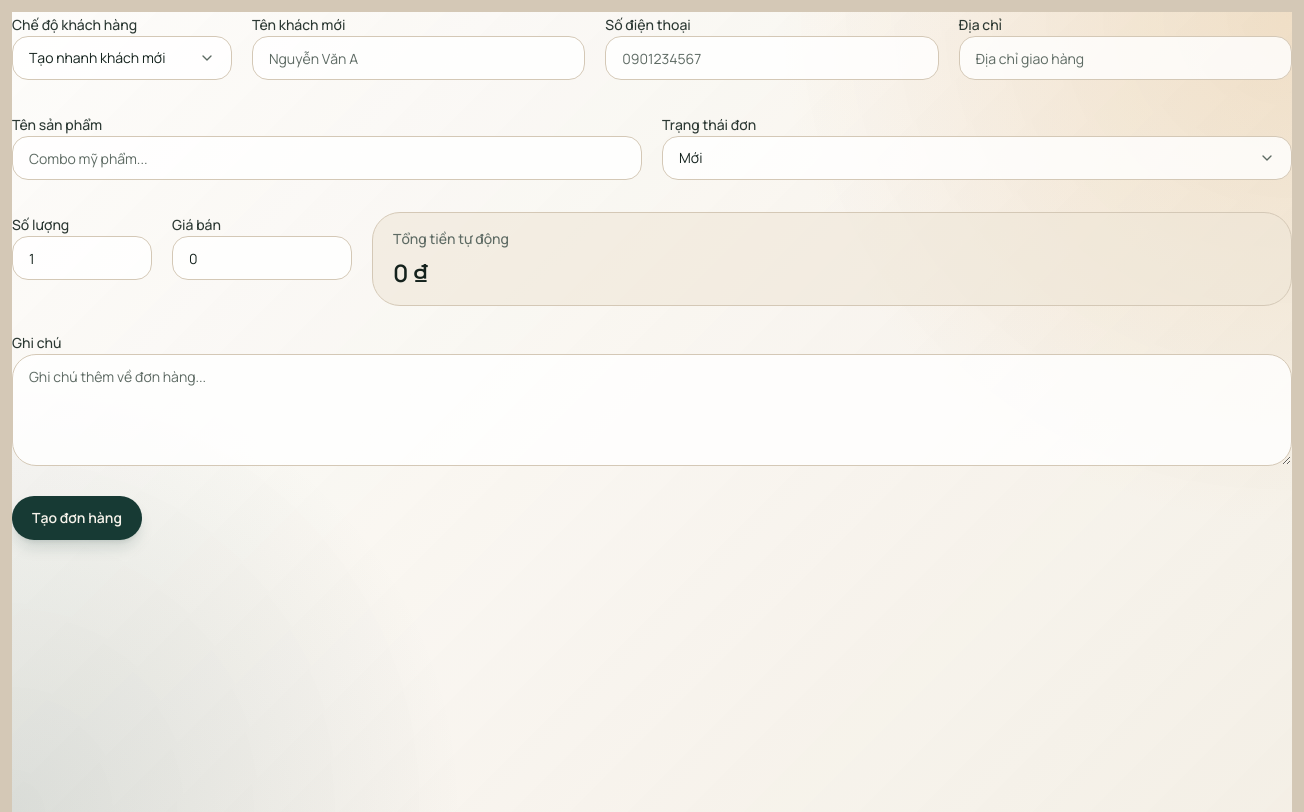
Test: OrderForm › shows computed total price as user edits quantity and price
Step 1. Type "Pham D" into the field labelled "Tên khách mới" → (419, 58), box [252, 36, 585, 80]
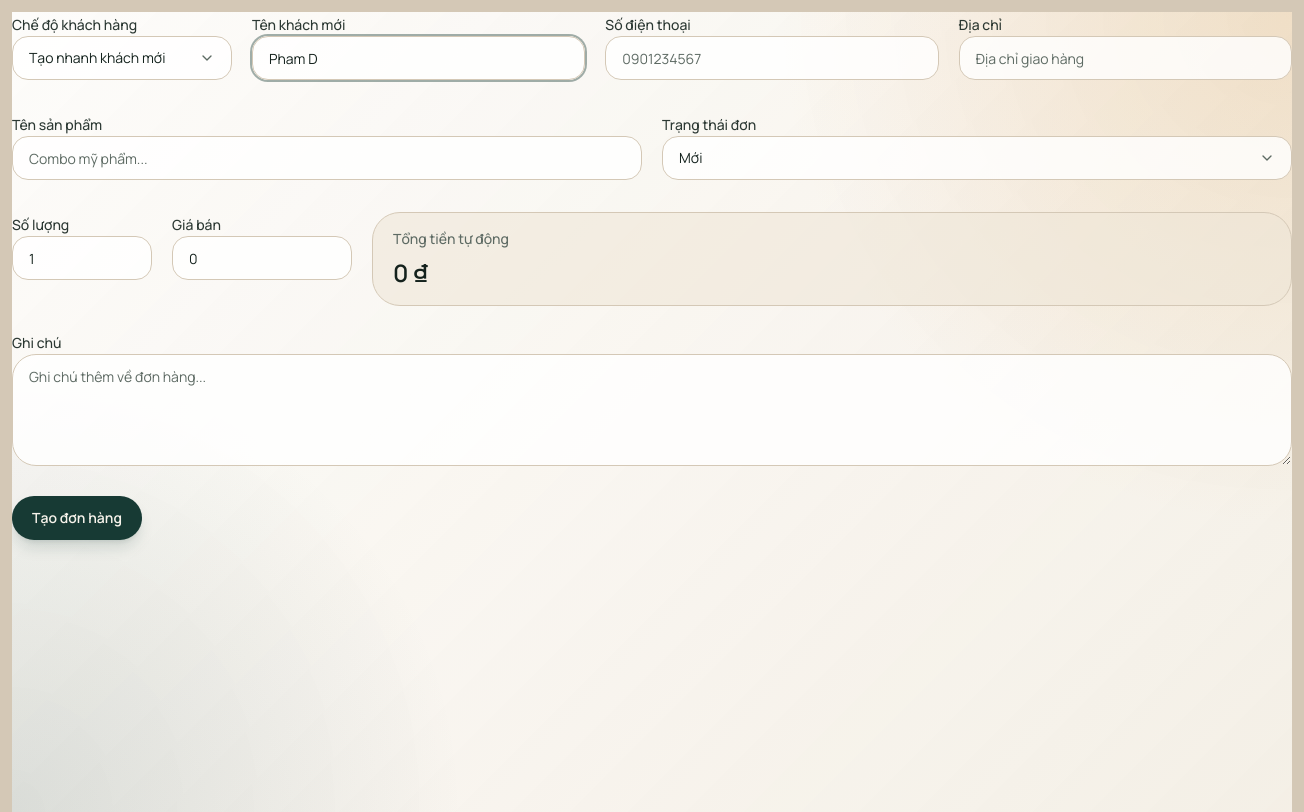
Step 2. Type "0902222222" into the field labelled "Số điện thoại" → (772, 58), box [605, 36, 939, 80]
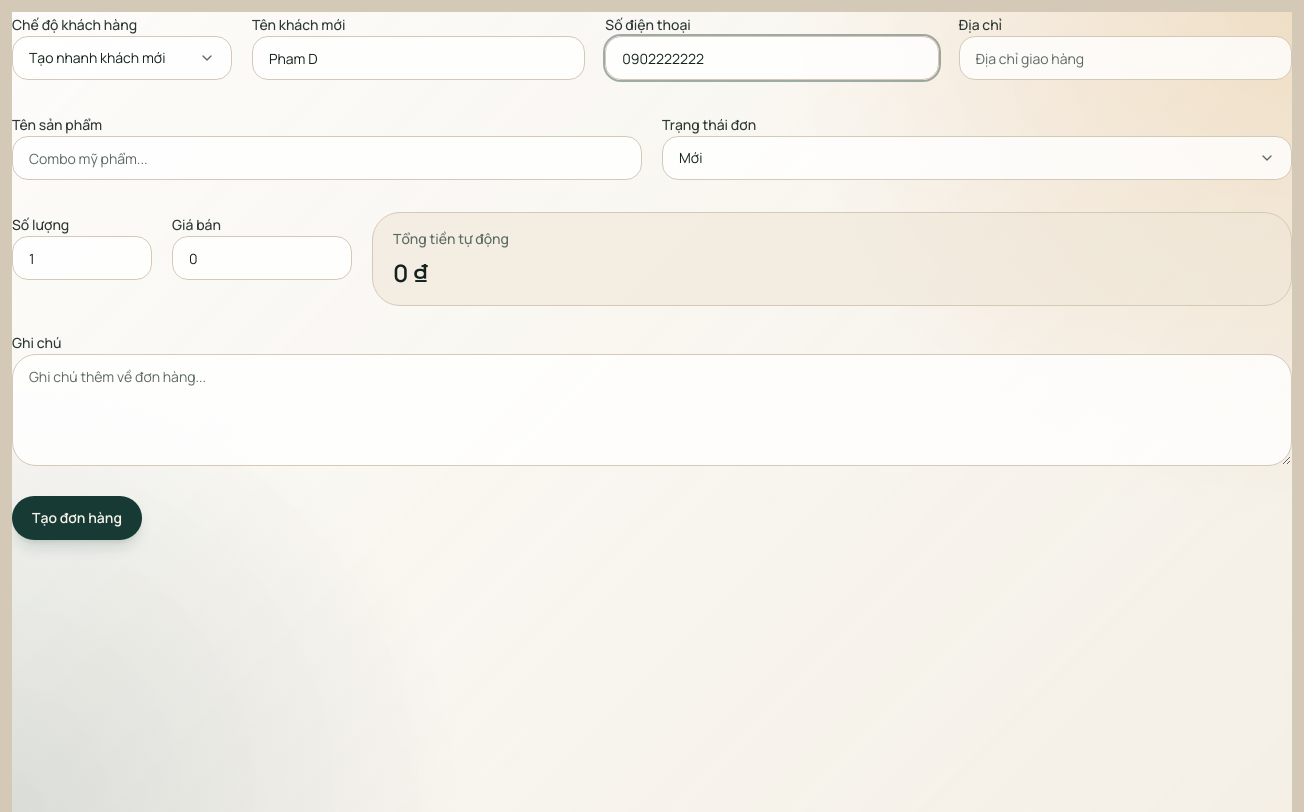
Step 3. Type "San pham test" into the field labelled "Tên sản phẩm" → (327, 158), box [12, 136, 642, 180]
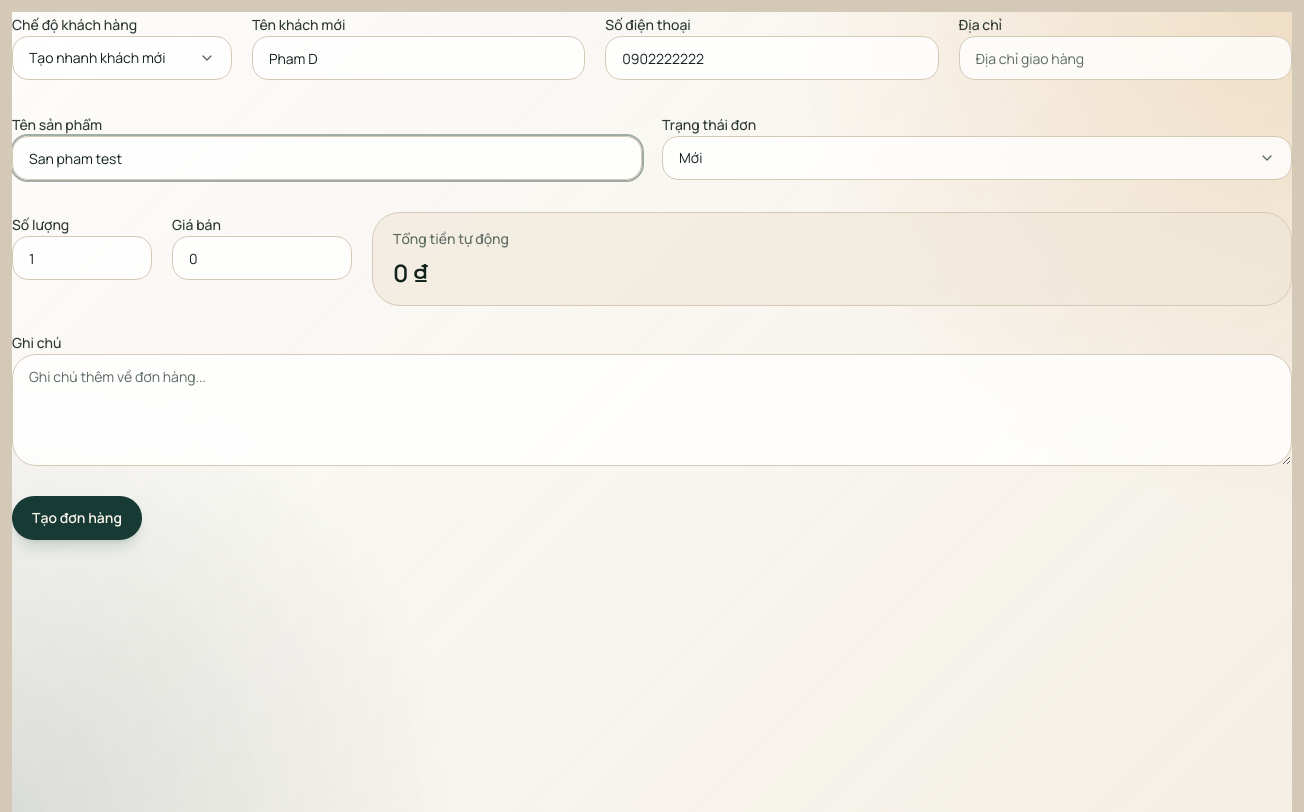
Step 4. Replace the text in the number field labelled "Số lượng" with "3" → (82, 258), box [12, 236, 152, 280]
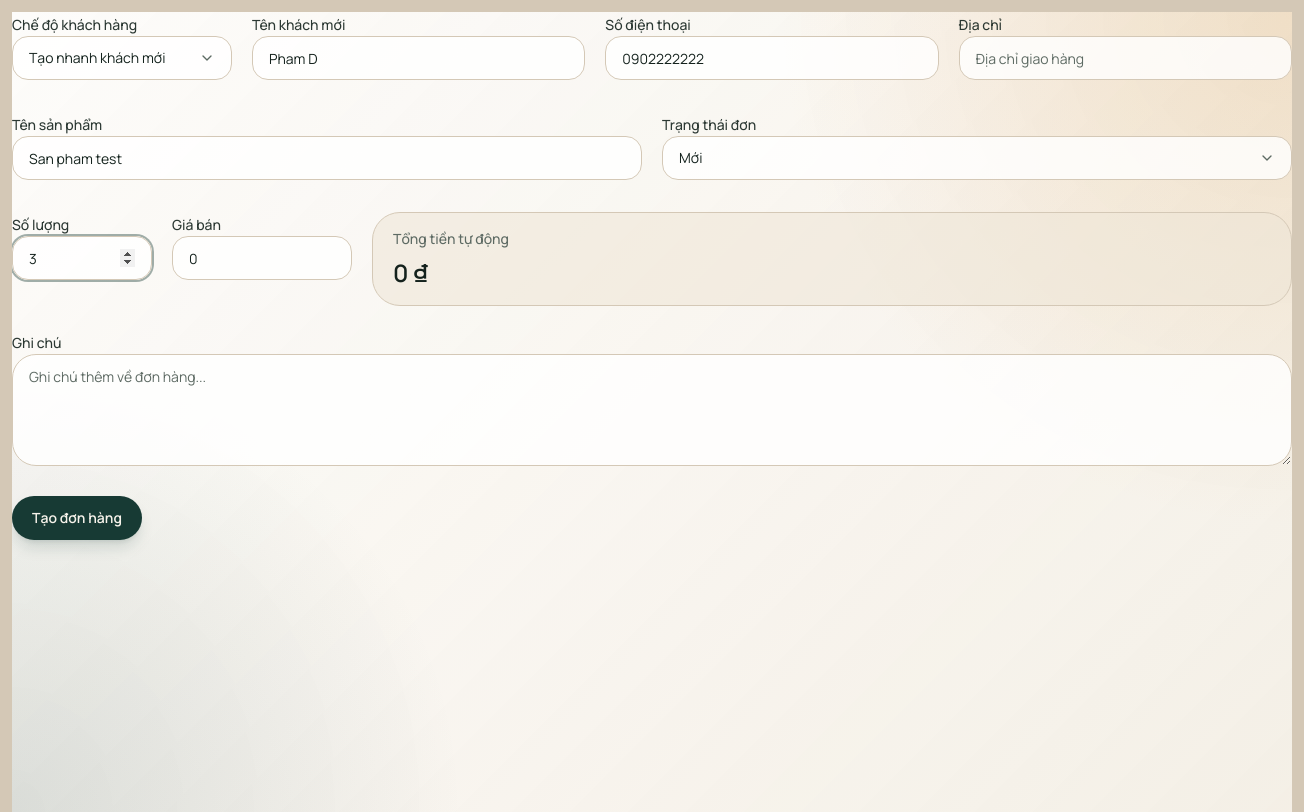
Step 5. Replace the text in the number field labelled "Giá bán" with "50000" → (262, 258), box [172, 236, 352, 280]
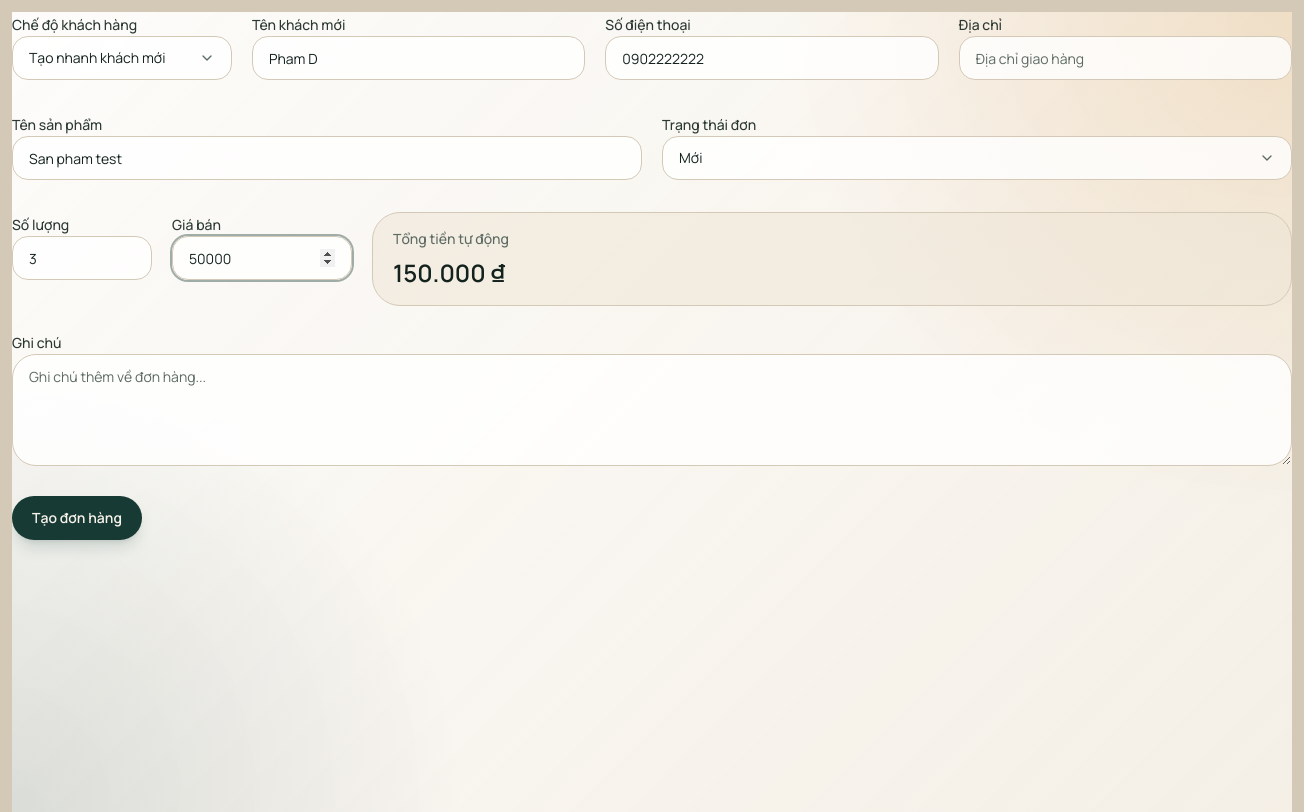
expect the text "150.000 ₫" is shown: met, box [393, 256, 505, 289]
